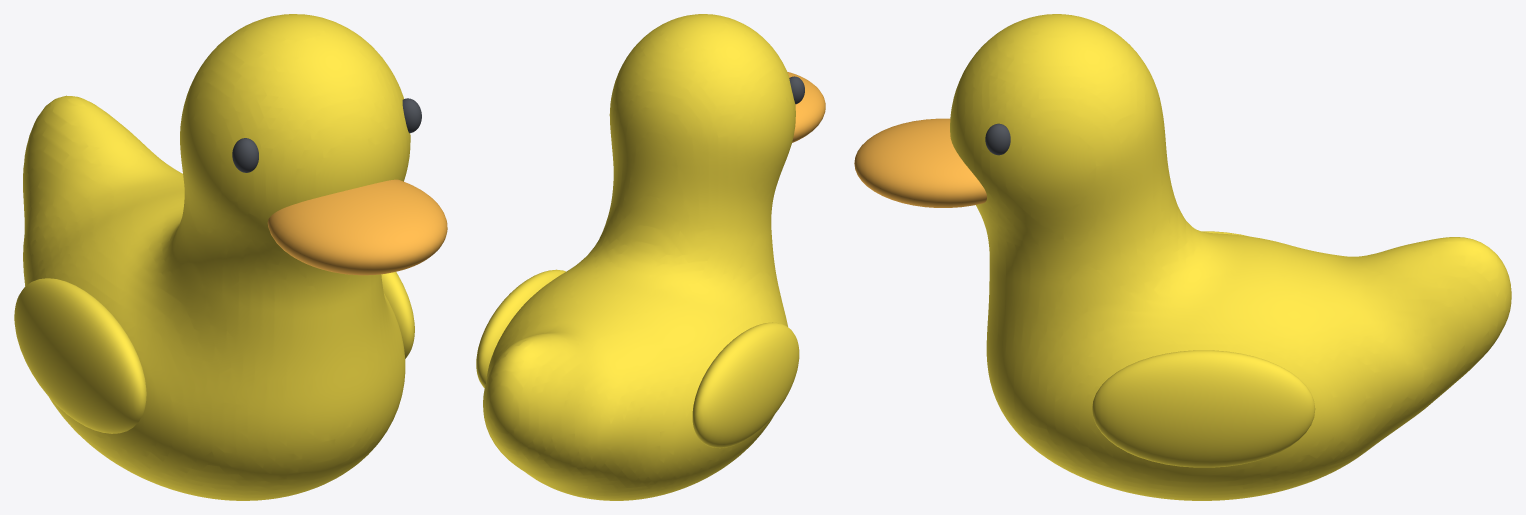
File: duck_01_standard.glb
3 renders of one model, left to right at view 1: azimuth 30°, elevation 25°; view 2: azimuth 150°, elevation 25°; view 3: azimuth 270°, elevation 25°, orthographic. The views are drawn at different scales.
Parts seen in each view (by area): view 1: Body, Wing_Left, Beak, Wing_Right, Eye_Left, Eye_Right; view 2: Body, Wing_Left, Wing_Right, Beak; view 3: Body, Wing_Right, Beak.
Part boxes in pixels (box(x1,y1,x2,y2)): Body: box(23, 14, 410, 500); Wing_Left: box(14, 278, 146, 433); Beak: box(267, 179, 447, 275); Wing_Right: box(381, 272, 414, 358); Eye_Left: box(232, 138, 258, 172); Eye_Right: box(402, 98, 421, 133); Body: box(483, 14, 795, 500); Wing_Left: box(692, 322, 799, 448); Wing_Right: box(476, 269, 565, 387); Beak: box(787, 72, 825, 142); Body: box(950, 14, 1511, 500); Wing_Right: box(1092, 350, 1315, 467); Beak: box(854, 118, 986, 207).
Size of the model in its own units: 0.9 by 1.36 by 1.76.
